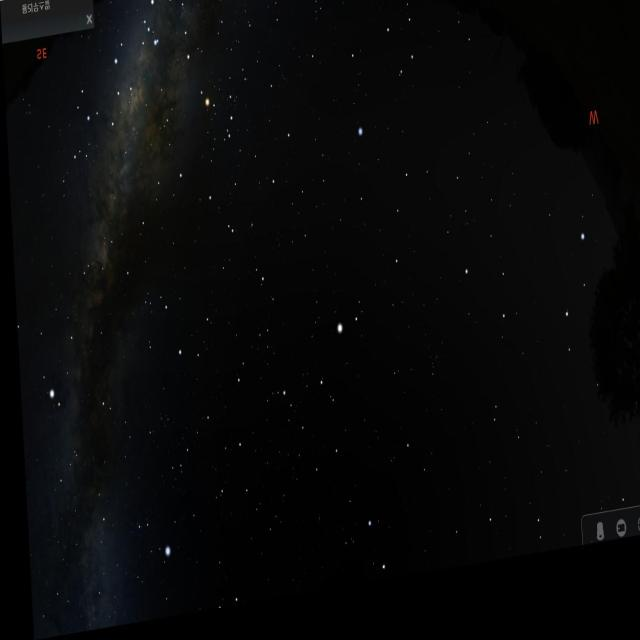aquila: (22, 250, 122, 434)
bootes: (271, 296, 377, 504)
leo: (450, 212, 613, 421)
lyra: (121, 499, 174, 578)
sagittarius: (61, 41, 143, 170)
scorpius: (142, 0, 242, 179)
